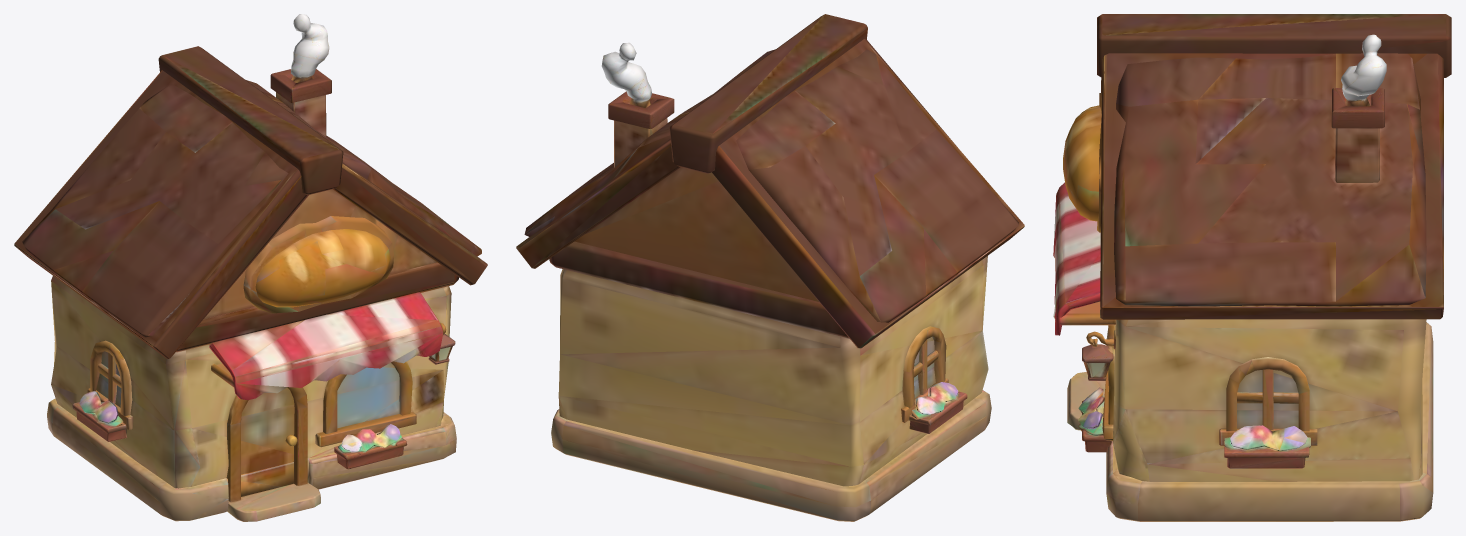
File: bakery.glb
The picture shows the model from 3 angles, left to right: view 1: azimuth 30°, elevation 25°; view 2: azimuth 150°, elevation 25°; view 3: azimuth 270°, elevation 25°; orthographic projection. The views are drawn at different scales.
Size of the model in its own units: 0.9097 by 0.9531 by 0.753.
1 material, 1 textured.
